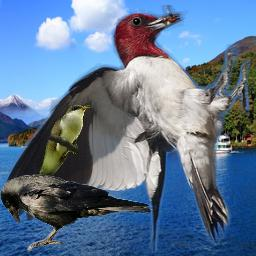Crow: (0, 174, 153, 252)
Cuckoo: (37, 104, 92, 185)
Woodpecker: (3, 5, 250, 253)
